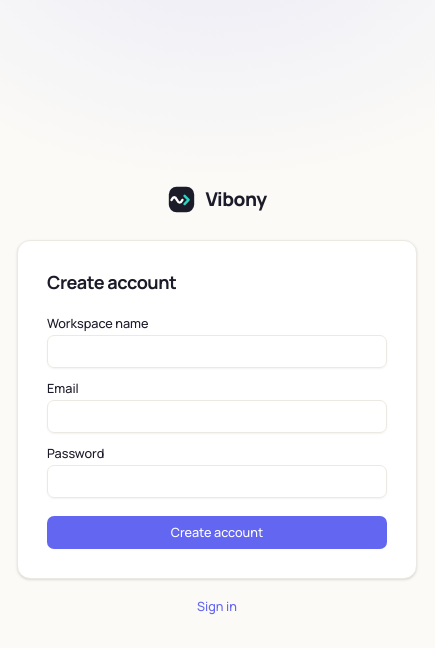
Scenario: SignupPage › reserved-TLD email (422) shows a validation message, not "HTTP 422"
This screenshot has width=435, height=648.
Check: the form with test id "signup-form" is shown, box 47,317 -> 387,549
Type "Acme" into the field with test id "signup-company".
click(217, 351); type("Acme")  # box 47,335 -> 387,368
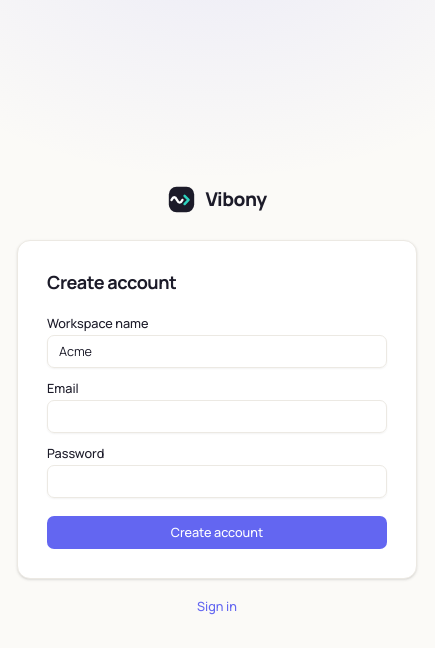
Type "a@b.test" into the field with test id "signup-email".
click(217, 416); type("a@b.test")  # box 47,400 -> 387,433
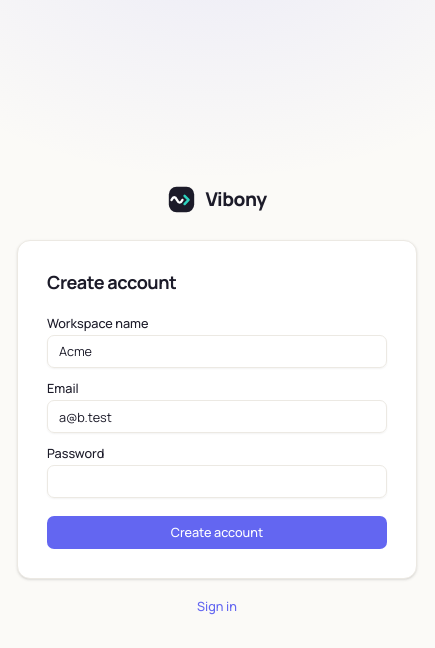
Type "password123" into the password field with test id "signup-password".
click(217, 482); type("password123")  # box 47,466 -> 387,498
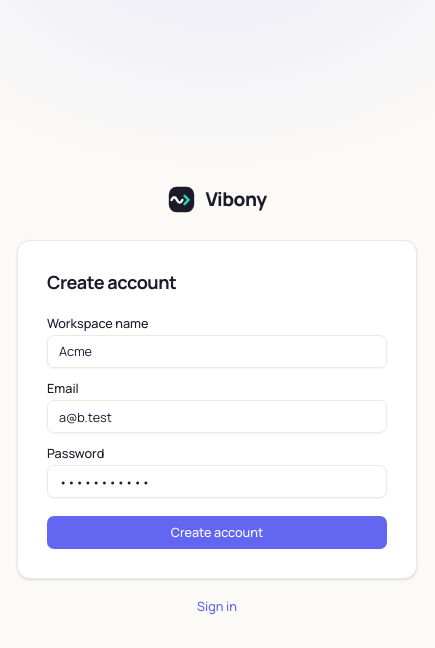
Click the button with test id "signup-submit".
click(217, 532)  # box 47,516 -> 387,549
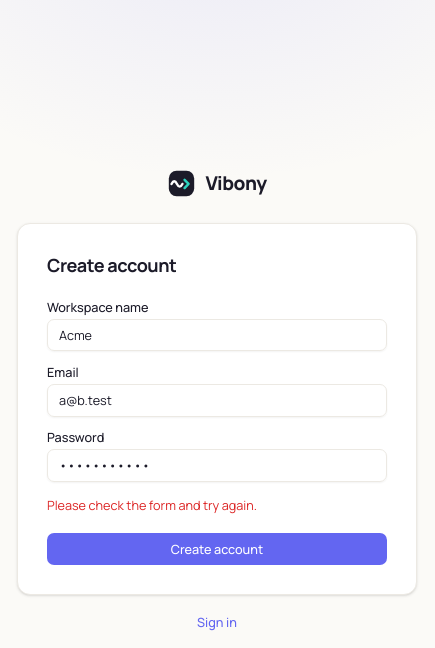
Check: the message with test id "signup-error" reads "Please check the form and try again.", box 47,496 -> 257,514
